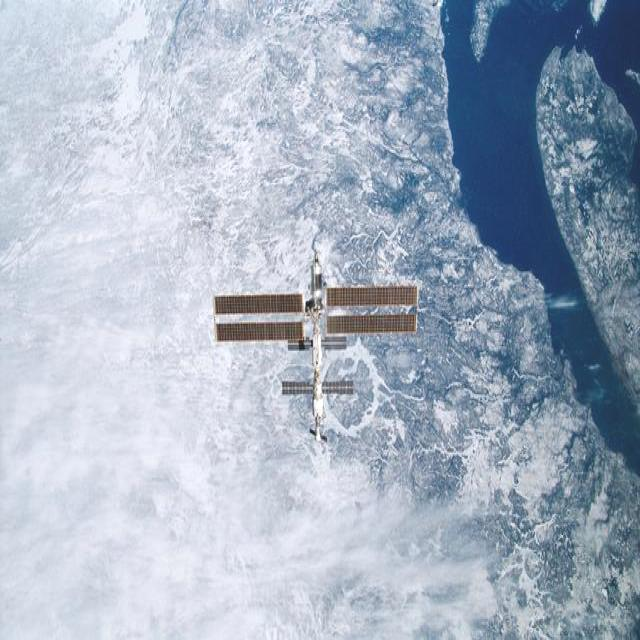satellite: (210, 250, 416, 435)
